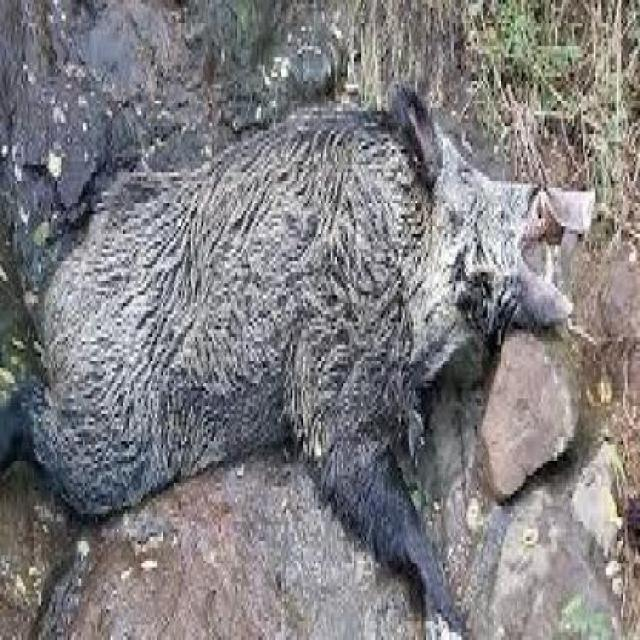wildboar: (0, 77, 602, 640)
